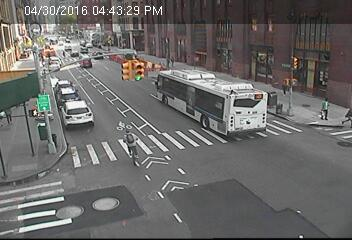neg: (206, 165, 243, 215), (113, 122, 148, 168), (195, 102, 220, 135), (117, 49, 142, 82), (83, 187, 108, 220), (260, 168, 285, 200), (253, 67, 274, 96), (46, 24, 66, 51), (130, 180, 150, 206), (195, 40, 215, 66), (30, 68, 49, 94), (284, 54, 302, 78), (58, 140, 75, 163), (82, 50, 99, 72), (274, 98, 291, 120), (181, 81, 197, 102), (54, 196, 70, 217), (66, 90, 82, 110), (159, 29, 171, 45)
pos: (313, 95, 332, 120), (1, 102, 19, 126), (168, 54, 178, 67)
